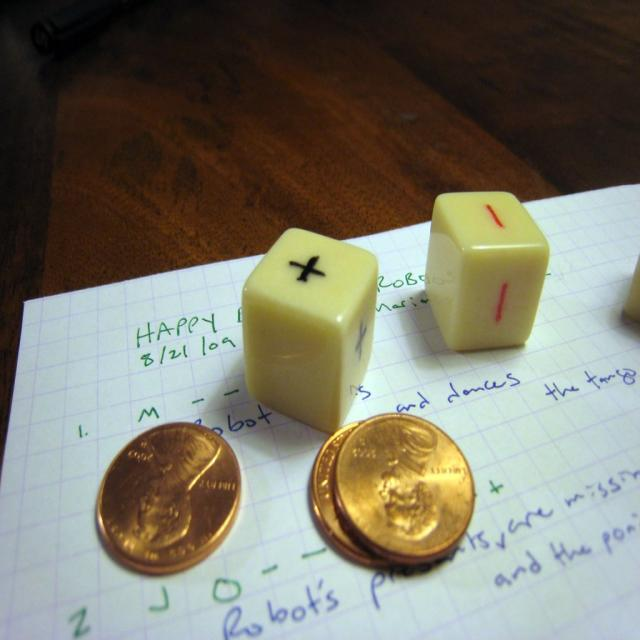Coin: (95, 416, 242, 573), (334, 409, 476, 566), (307, 415, 378, 571)
